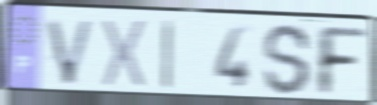4: (212, 23, 254, 92)
F: (314, 23, 371, 98)
I: (160, 18, 175, 93)
S: (261, 22, 314, 98)
V: (43, 17, 98, 87)
X: (100, 17, 149, 92)
